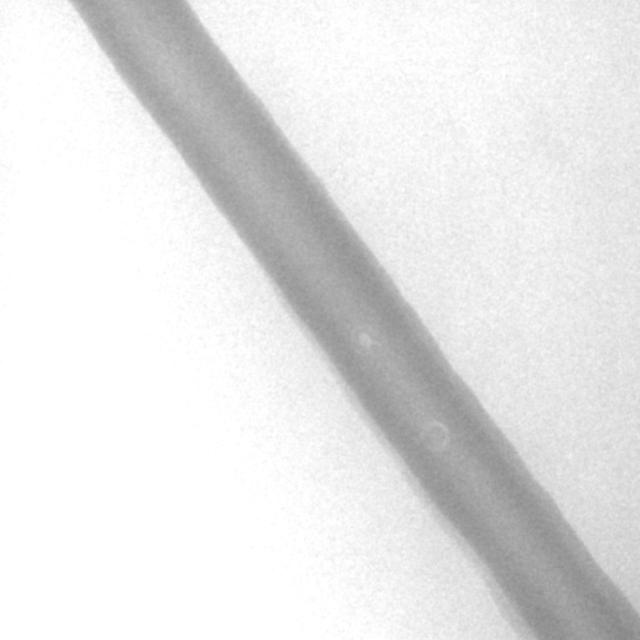hollow bead: (419, 419, 450, 454)
